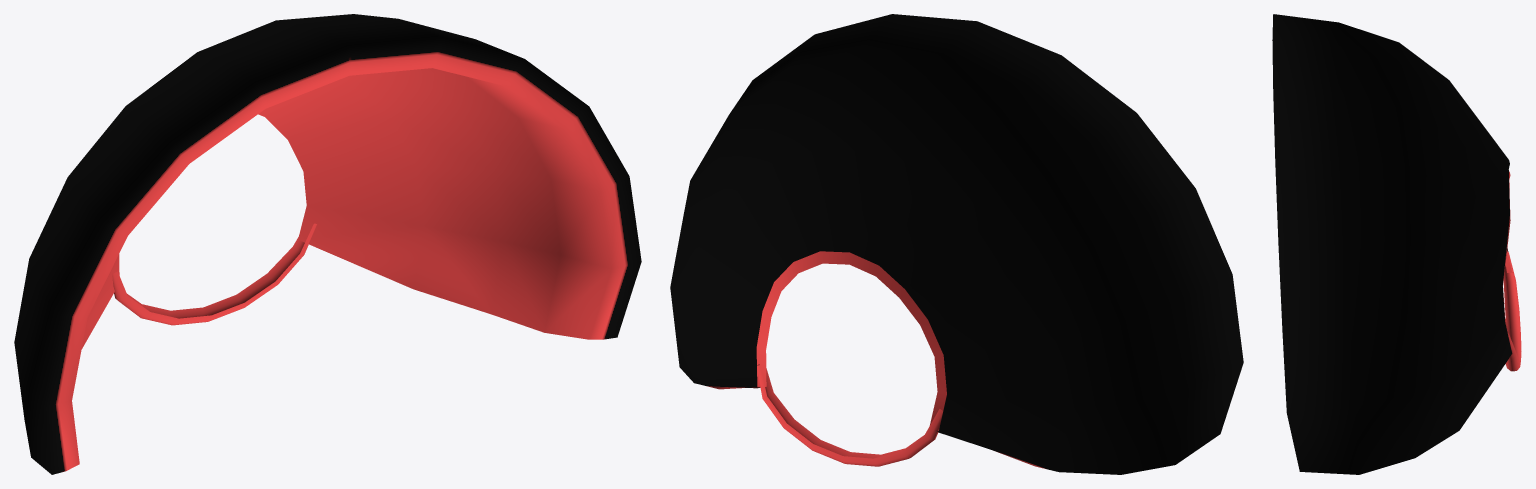
Rendered from VampireCloak.fbx.
3 views of the same model, side by side, from view 1: azimuth 30°, elevation 25°; view 2: azimuth 150°, elevation 25°; view 3: azimuth 270°, elevation 25° (orthographic). The views are drawn at different scales.
Parts seen in each view (by area): view 1: VampireCloak; view 2: VampireCloak; view 3: VampireCloak.
Part boxes in pixels (x1,y1,x2,y2): VampireCloak: [14, 14, 641, 474]; VampireCloak: [670, 14, 1243, 474]; VampireCloak: [1272, 14, 1521, 474].
Bounding box in the file's own units: 60.66 × 37 × 25.76.
Materials: 1 (1 with a texture image).
